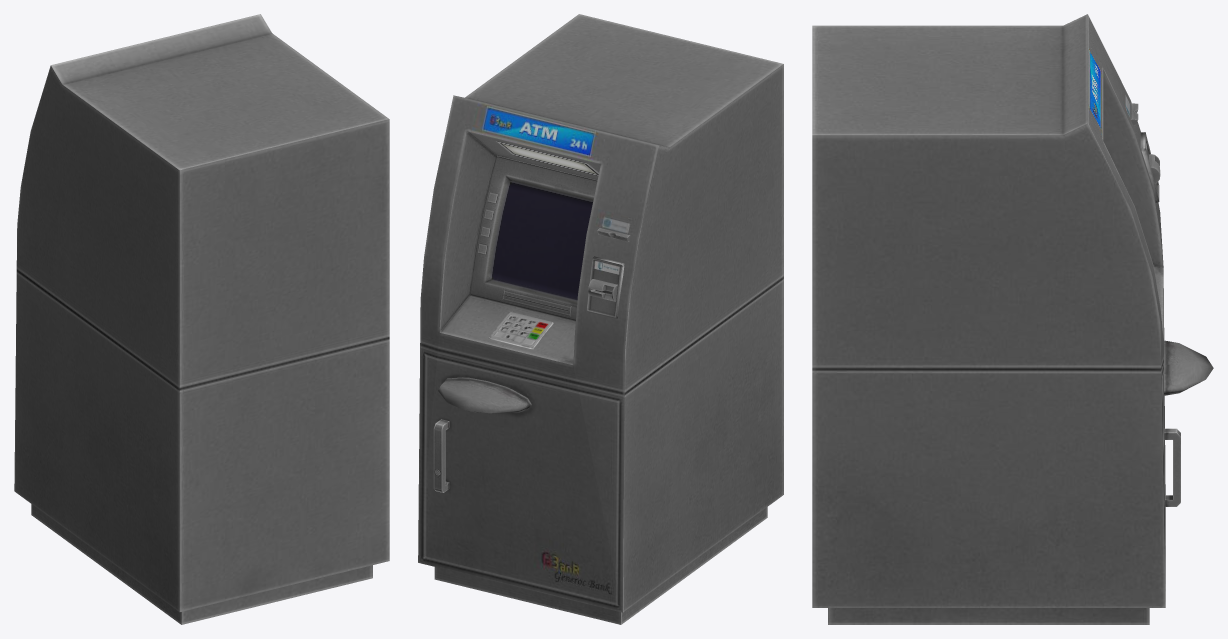
Rendered from ATM.glb.
3 renders of one model, left to right at view 1: azimuth 30°, elevation 25°; view 2: azimuth 150°, elevation 25°; view 3: azimuth 270°, elevation 25°, orthographic. The views are drawn at different scales.
Parts seen in each view (by area): view 1: ATM__LOD3; view 2: ATM__LOD3; view 3: ATM__LOD3.
Boxes of the visible parts, left/top/right/bottom form: ATM__LOD3: left=14, top=14, right=389, bottom=624; ATM__LOD3: left=418, top=14, right=783, bottom=624; ATM__LOD3: left=812, top=14, right=1213, bottom=624.
Bounding box in the file's own units: 0.8625 × 1.86 × 1.34.
Materials: 1 (1 with a texture image).
